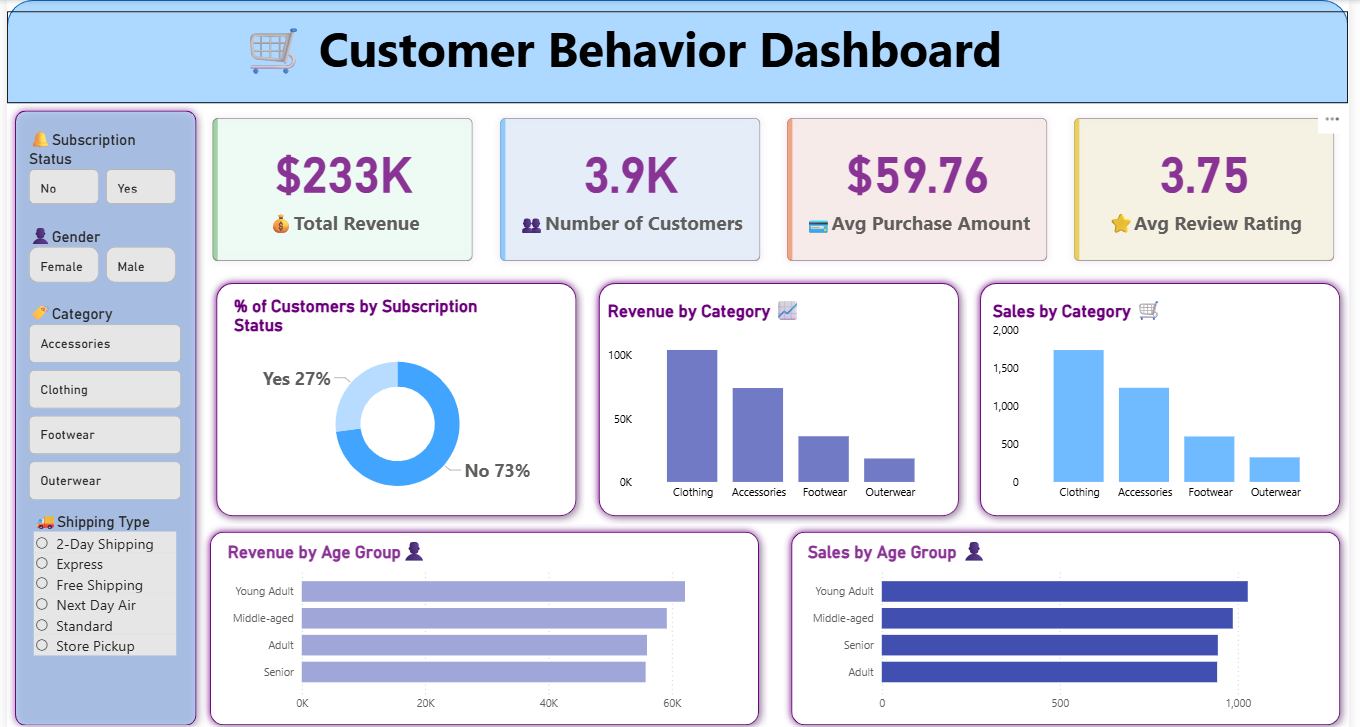

The page's visual inventory and layout, read from the dashboard file:
{"tool":"powerbi","page":{"name":"Page 1","canvas":[1500,820],"ordinal":0},"visuals":[{"type":"cardVisual","fields":{"Data":["public customer.Total Revenue","public customer.Number of Customers","public customer.Average Purchase Amount","public customer.Average Review Rating"]},"box":[213.9,116.2,1286.4,192.7],"z":2000},{"type":"shape","box":[218.3,585.6,631.7,234.2],"z":2500,"group":"g1"},{"type":"shape","box":[0,0,1499.4,115.3],"z":3000},{"type":"textbox","box":[0,12.4,1499.4,102.9],"z":4000},{"type":"shape","box":[225.4,307,420.5,278.6],"z":5000},{"type":"donutChart","title":"% of Customers by Subscription Status","fields":{"Category":["public customer.subscription_status"],"Y":["CountNonNull(public customer.customer_id)"]},"box":[248.4,331.8,376.2,237.8],"z":6000},{"type":"shape","box":[1078.9,307,420.5,278.6],"z":7000},{"type":"shape","box":[652.1,307,420.5,278.6],"z":8000},{"type":"clusteredColumnChart","title":"Revenue by Category 📈","fields":{"Y":["Sum(public customer.purchase_amount)"],"Category":["public customer.category"]},"box":[667.2,331.8,385.1,237.8],"z":9000},{"type":"clusteredColumnChart","title":"Sales by Category 🛒","fields":{"Y":["CountNonNull(public customer.customer_id)"],"Category":["public customer.category"]},"box":[1096.6,331.8,385.1,237.8],"z":10000},{"type":"shape","box":[0,114.6,220.8,705.7],"z":11000},{"type":"advancedSlicerVisual","title":"🔔Subscription Status","fields":{"Values":["public customer.subscription_status"]},"box":[19.6,142.5,174.7,90.8],"z":12000},{"type":"advancedSlicerVisual","title":" 👤Gender","fields":{"Values":["public customer.gender"]},"box":[19.6,250.1,174.7,71.3],"z":13000},{"type":"advancedSlicerVisual","title":"🏷️Category","fields":{"Values":["public customer.category"]},"box":[19.6,336.8,180.3,227.8],"z":14000},{"type":"listSlicer","title":" 🚚Shipping Type","fields":{"Values":["public customer.shipping_type"]},"box":[25.2,568.7,169.1,220.8],"z":15000},{"type":"shape","box":[867.7,585.6,631.7,234.2],"z":16000},{"type":"clusteredBarChart","title":"Sales by Age Group 👤","fields":{"Y":["CountNonNull(public customer.customer_id)"],"Category":["public customer.age_group"]},"box":[890.8,601.5,585.6,204.1],"z":17000},{"type":"clusteredBarChart","title":"Revenue by Age Group👤","fields":{"Y":["Sum(public customer.purchase_amount)"],"Category":["public customer.age_group"]},"box":[241.4,601.6,585.6,204.1],"z":17500,"group":"g1"},{"type":"group","id":"g1","title":"Group 1","box":[218.3,585.6,631.7,234.2],"z":17501}]}

Visuals, with their boxes in screenshot pixels (x1, y1, x2, y2), scaled from the page's 1500x820 canvas onto the 1360x727 screenshot:
cardVisual - public customer.Total Revenue x public customer.Number of Customers: 194 103 1359 274
shape: 198 519 771 726
shape: 0 0 1359 102
textbox: 0 11 1359 102
shape: 204 272 586 519
"% of Customers by Subscription Status" donutChart: 225 294 566 505
shape: 978 272 1359 519
shape: 591 272 972 519
"Revenue by Category 📈" clusteredColumnChart: 605 294 954 505
"Sales by Category 🛒" clusteredColumnChart: 994 294 1343 505
shape: 0 102 200 726
"🔔Subscription Status" advancedSlicerVisual: 18 126 176 207
" 👤Gender" advancedSlicerVisual: 18 222 176 285
"🏷️Category" advancedSlicerVisual: 18 299 181 501
" 🚚Shipping Type" listSlicer: 23 504 176 700
shape: 787 519 1359 726
"Sales by Age Group 👤" clusteredBarChart: 808 533 1339 714
"Revenue by Age Group👤" clusteredBarChart: 219 533 750 714
"Group 1" group: 198 519 771 726
